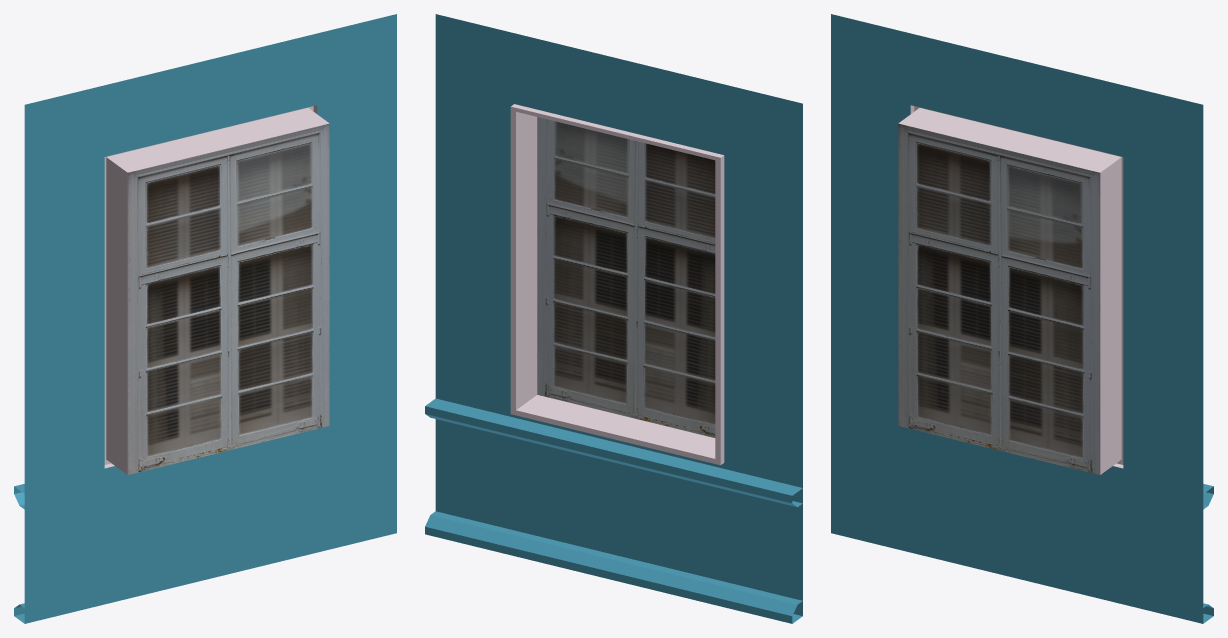
File: FacadeSecondFloorA.FBX
3 renders of one model, left to right at view 1: azimuth 30°, elevation 25°; view 2: azimuth 150°, elevation 25°; view 3: azimuth 330°, elevation 25°, orthographic.
Parts seen in each view (by area): view 1: FacadeSecondFloorA_Wall, FacadeSecondFloorA_Window; view 2: FacadeSecondFloorA_Wall, FacadeSecondFloorA_Window; view 3: FacadeSecondFloorA_Wall, FacadeSecondFloorA_Window.
Boxes of the visible parts, x1,y1,x2,y2 form: FacadeSecondFloorA_Wall: (14,14,396,623); FacadeSecondFloorA_Window: (127,123,329,474); FacadeSecondFloorA_Wall: (425,14,802,623); FacadeSecondFloorA_Window: (537,117,715,437); FacadeSecondFloorA_Wall: (831,14,1213,623); FacadeSecondFloorA_Window: (898,123,1100,474).
Bounding box in the file's own units: 300 × 400 × 40.
